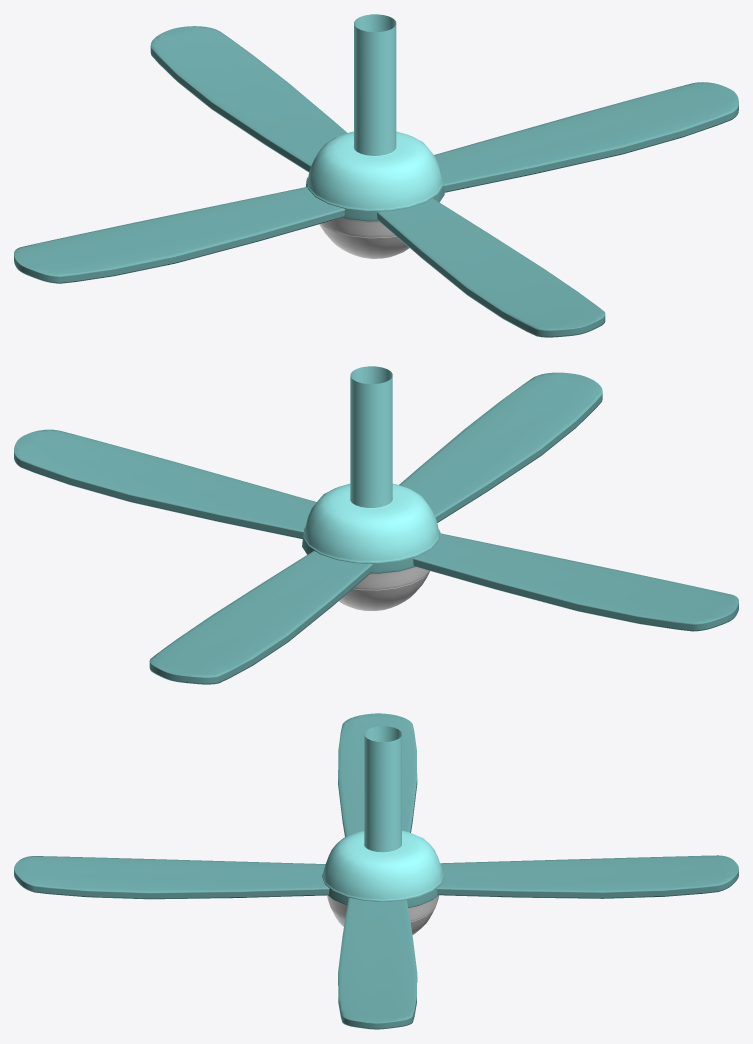
The model's file is CeilingFan.fbx.
3 views of the same model, one above another, from view 1: azimuth 30°, elevation 25°; view 2: azimuth 150°, elevation 25°; view 3: azimuth 270°, elevation 25° (orthographic). The views are drawn at different scales.
Parts seen in each view (by area): view 1: Blades, CeilingFan; view 2: Blades, CeilingFan; view 3: Blades, CeilingFan.
Part boxes in pixels (left/top/right/bottom): Blades: left=14, top=26, right=738, bottom=337; CeilingFan: left=306, top=14, right=444, bottom=258; Blades: left=14, top=372, right=738, bottom=684; CeilingFan: left=302, top=366, right=440, bottom=610; Blades: left=14, top=713, right=738, bottom=1029; CeilingFan: left=322, top=726, right=444, bottom=934.
Size of the model in its own units: 17.41 by 5.38 by 17.25.
